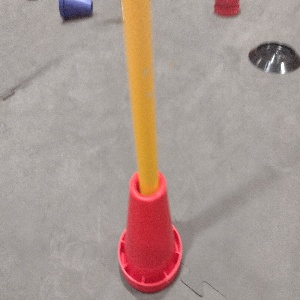Red_1: (116, 166, 183, 291)
